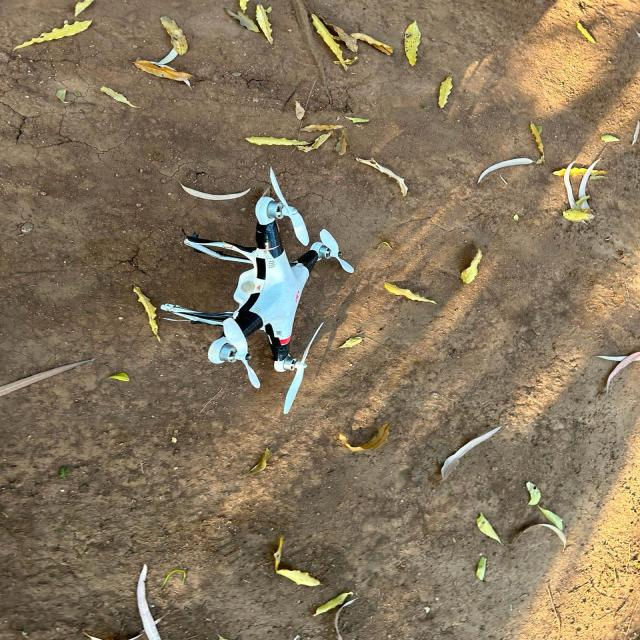drone: (103, 182, 394, 395)
